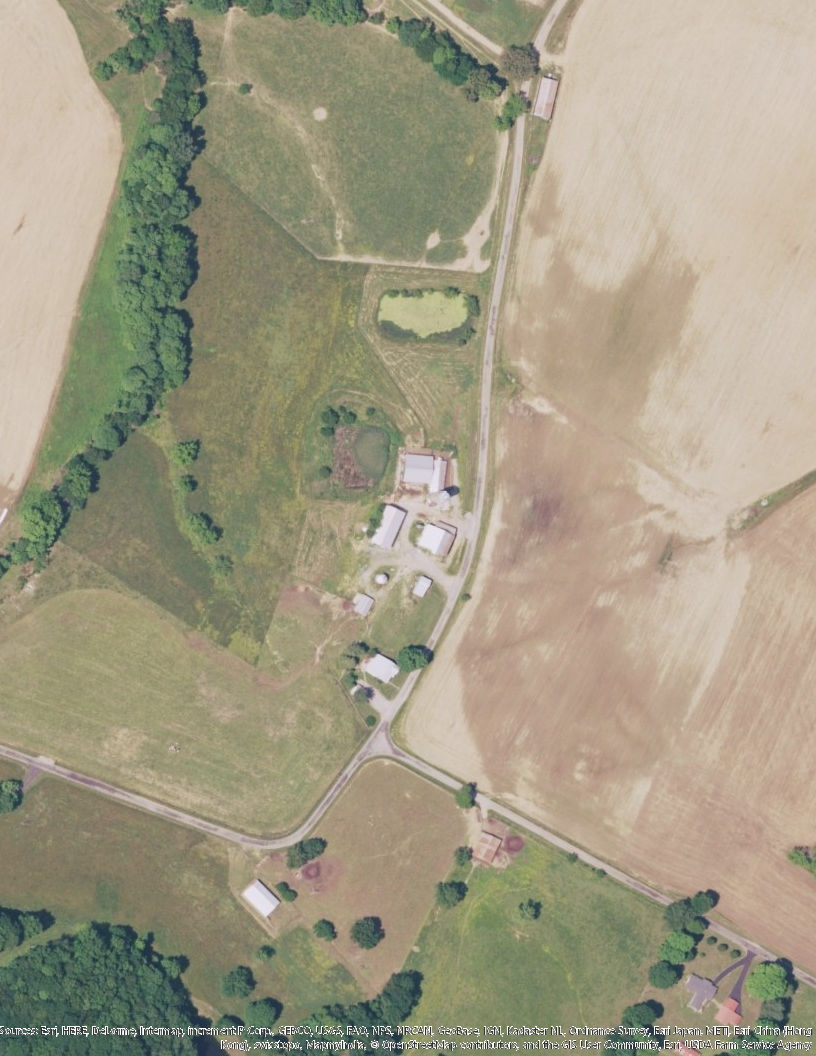cafo: (397, 450, 456, 498), (370, 498, 409, 552), (414, 516, 460, 560)
